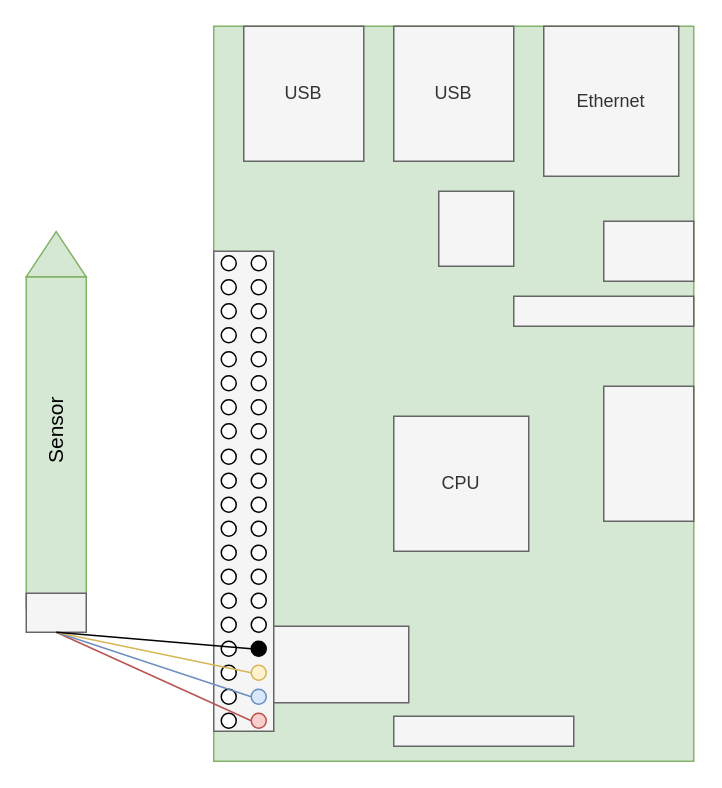
Some shapes in this 722 by 788 pixel diagram are drawn without their labels. Here are the shapes that lost their labels. From the top down, the centre of each, then its label:
At (475,228): "USB controller".
At (648,250): "AUX".
At (648,453): "HDMI".
